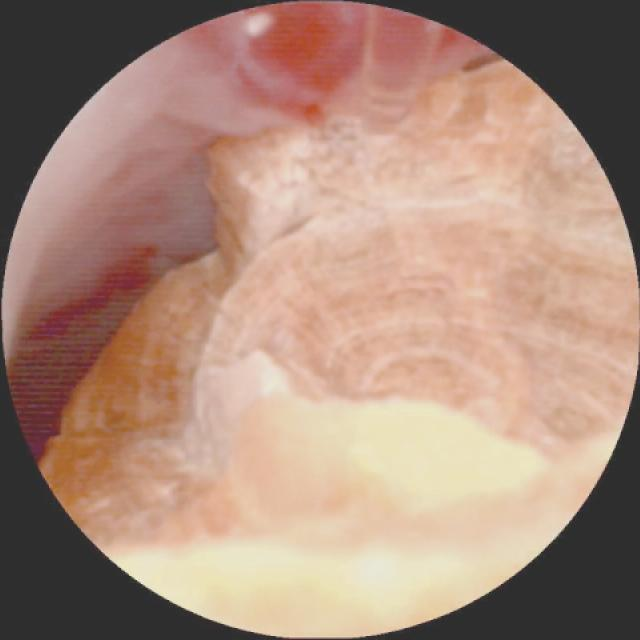stone: (41, 65, 627, 628)
